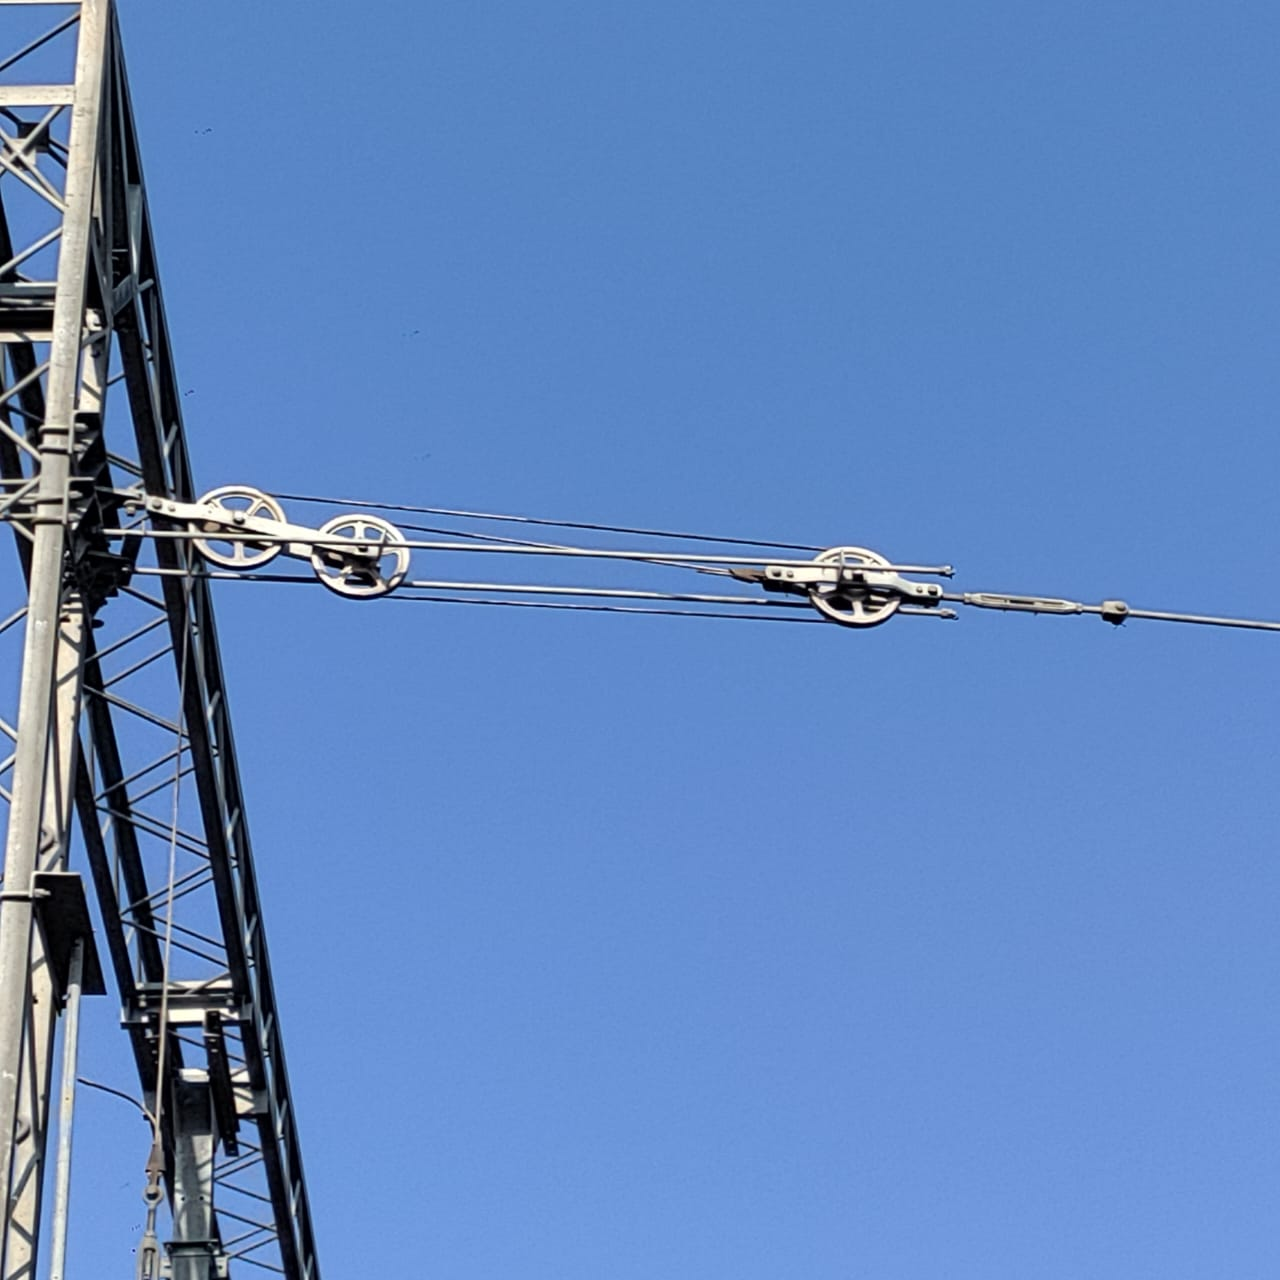Pulley: (813, 533, 913, 639), (307, 511, 421, 595), (186, 476, 282, 572)
